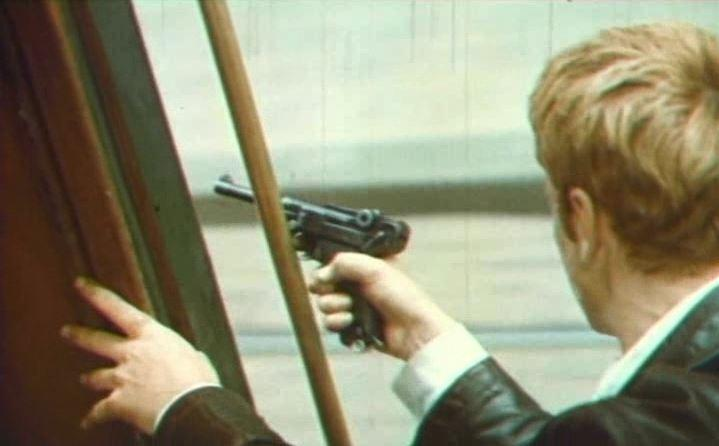gun: (208, 166, 412, 355)
